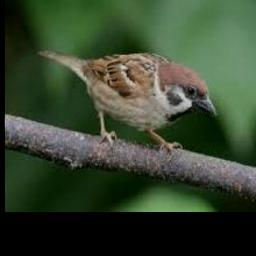Sparrow: (36, 49, 216, 153)
